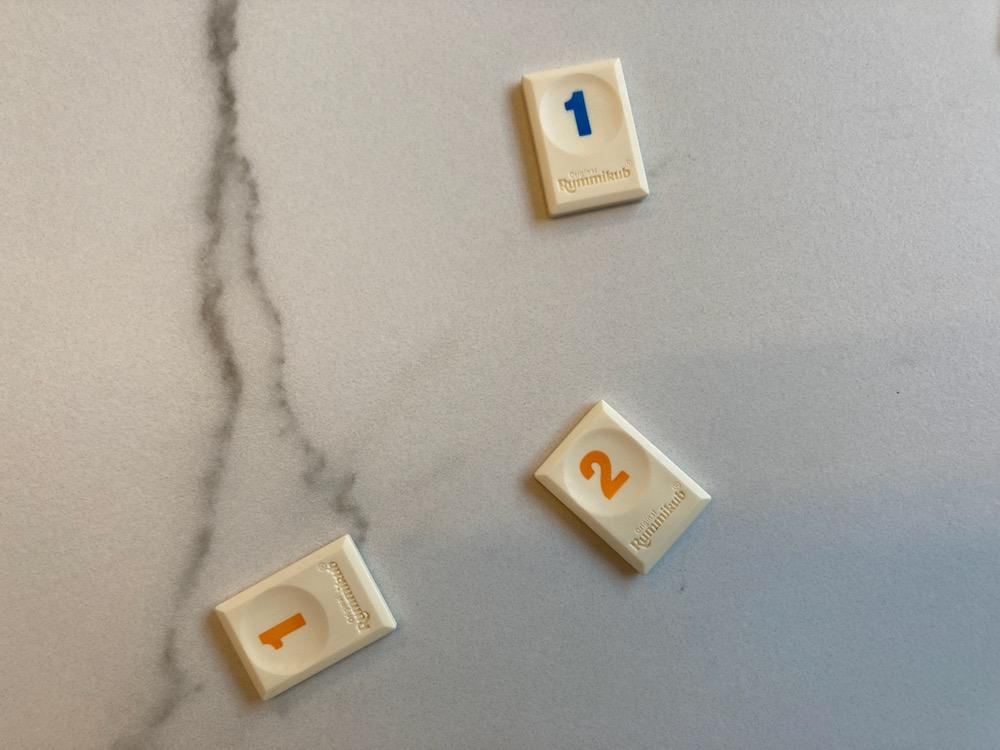blue_1: (521, 59, 648, 217)
orange_1: (215, 535, 396, 699)
orange_2: (535, 402, 711, 574)
